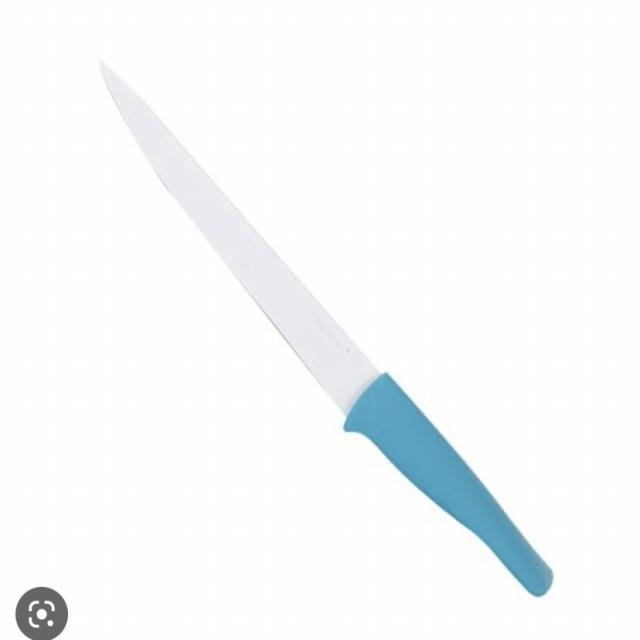Knife: (83, 36, 564, 600)
